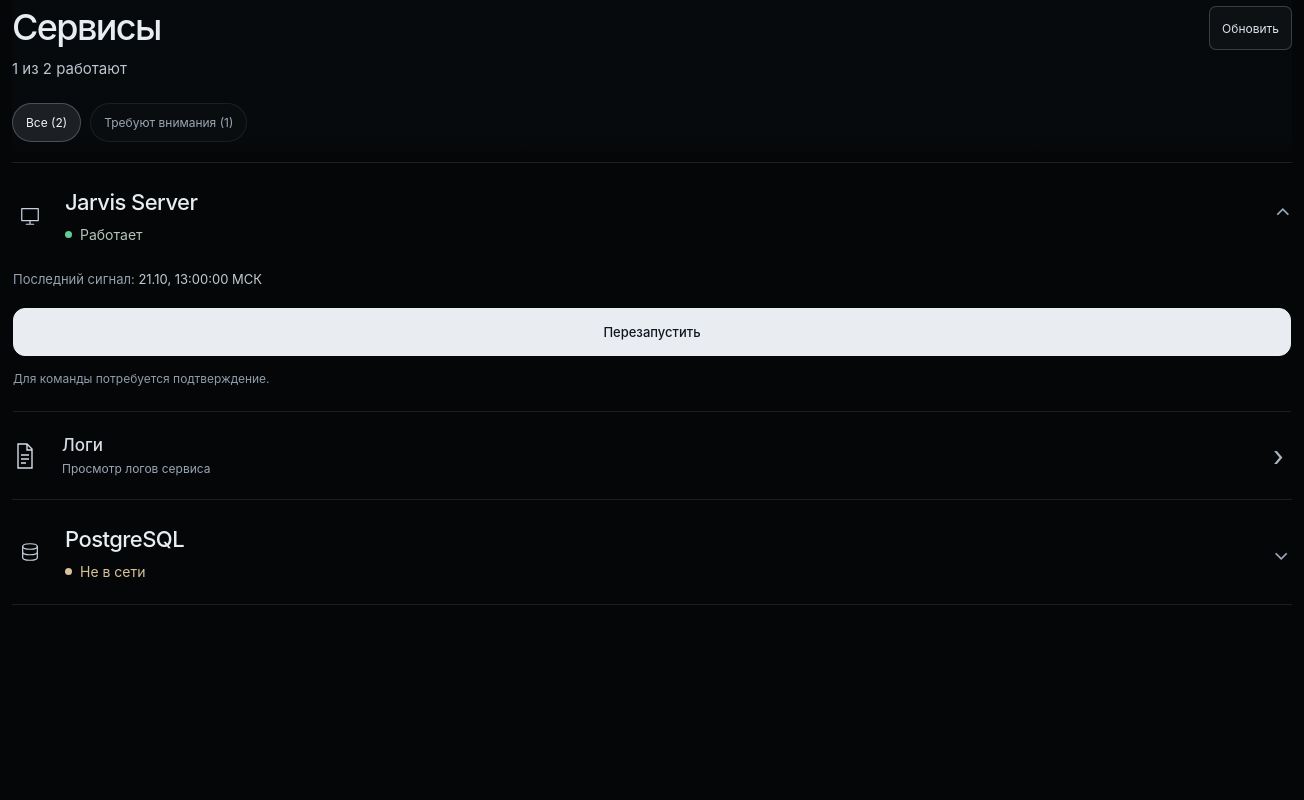
Test: marks stale service data and refreshes the list with GET without sending a command
Expected: the text "1 из 2 работают" is shown, [12,59,127,78]
Click the button with aria-label "Обновить список сервисов": point(1251, 28) [1209,6,1292,50]
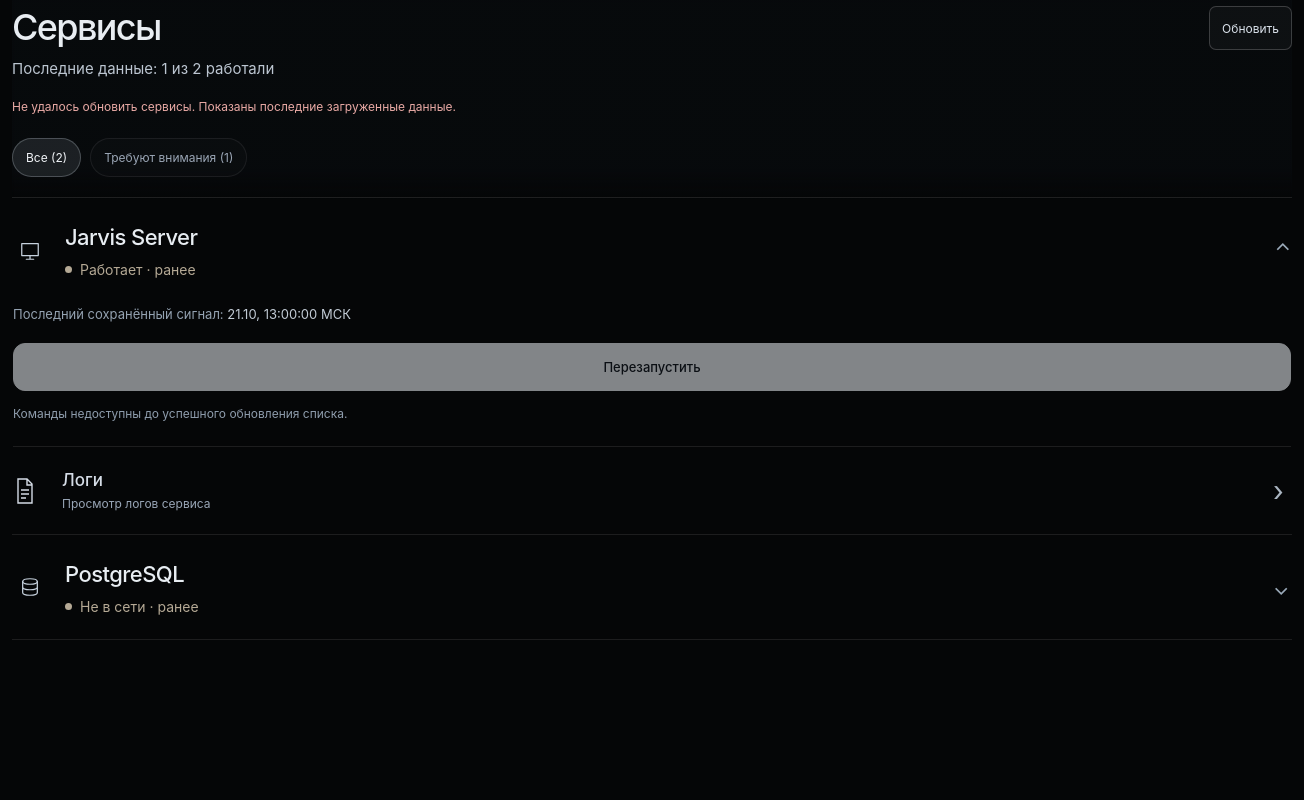
Now the message "Не удалось обновить сервисы. Показаны последние загруженные данные." is shown, box [12,98,456,114]
Now the text "Последние данные: 1 из 2 работали" is shown, box [12,59,274,78]
Now the button "Перезапустить" is disabled, box [13,343,1291,391]
Click the button with aria-label "Обновить список сервисов": point(1251, 28) [1209,6,1292,50]
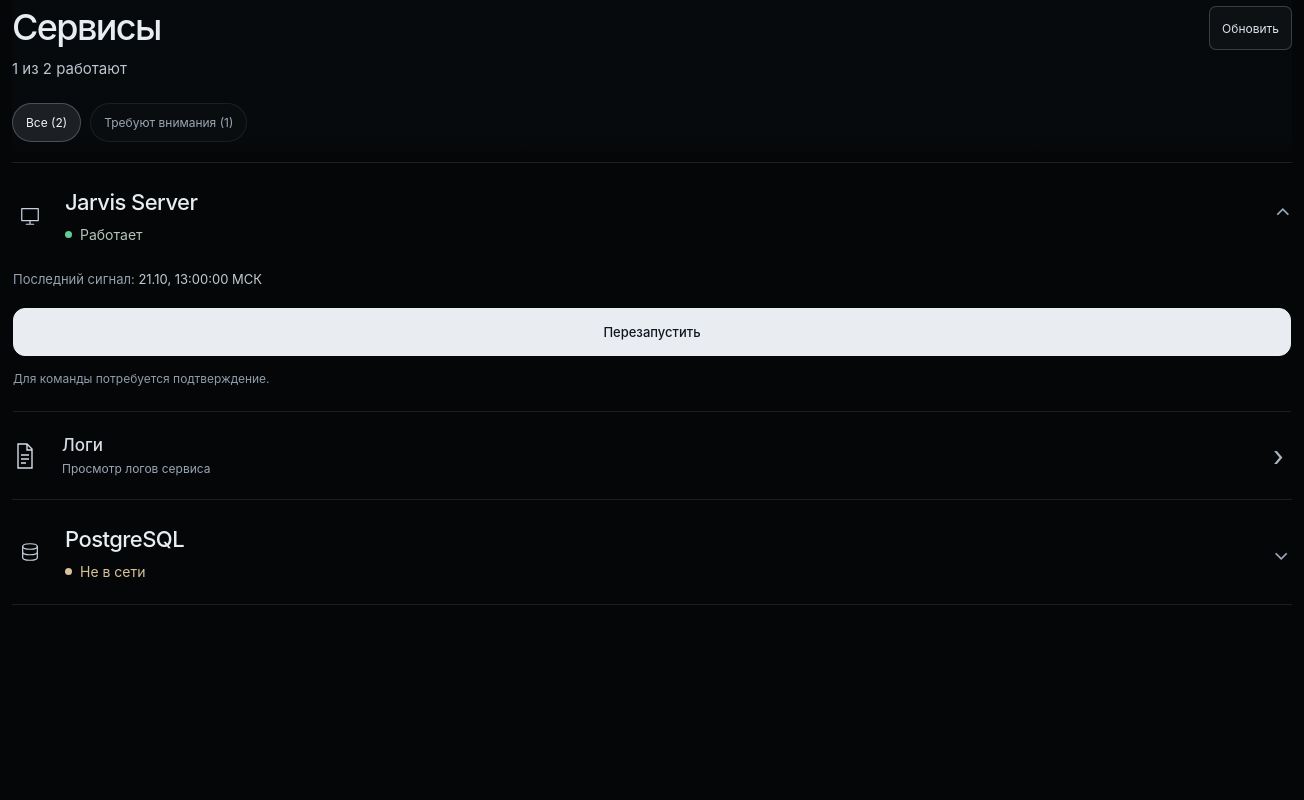
Now the message "Не удалось обновить сервисы. Показаны последние загруженные данные." is gone
Now the text "1 из 2 работают" is shown, box [12,59,127,78]
Now the button "Перезапустить" is enabled, box [13,308,1291,356]
